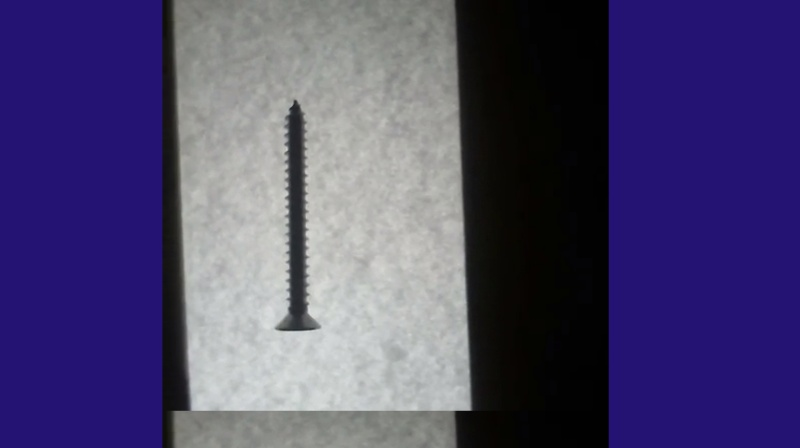S002: (270, 95, 323, 333)
